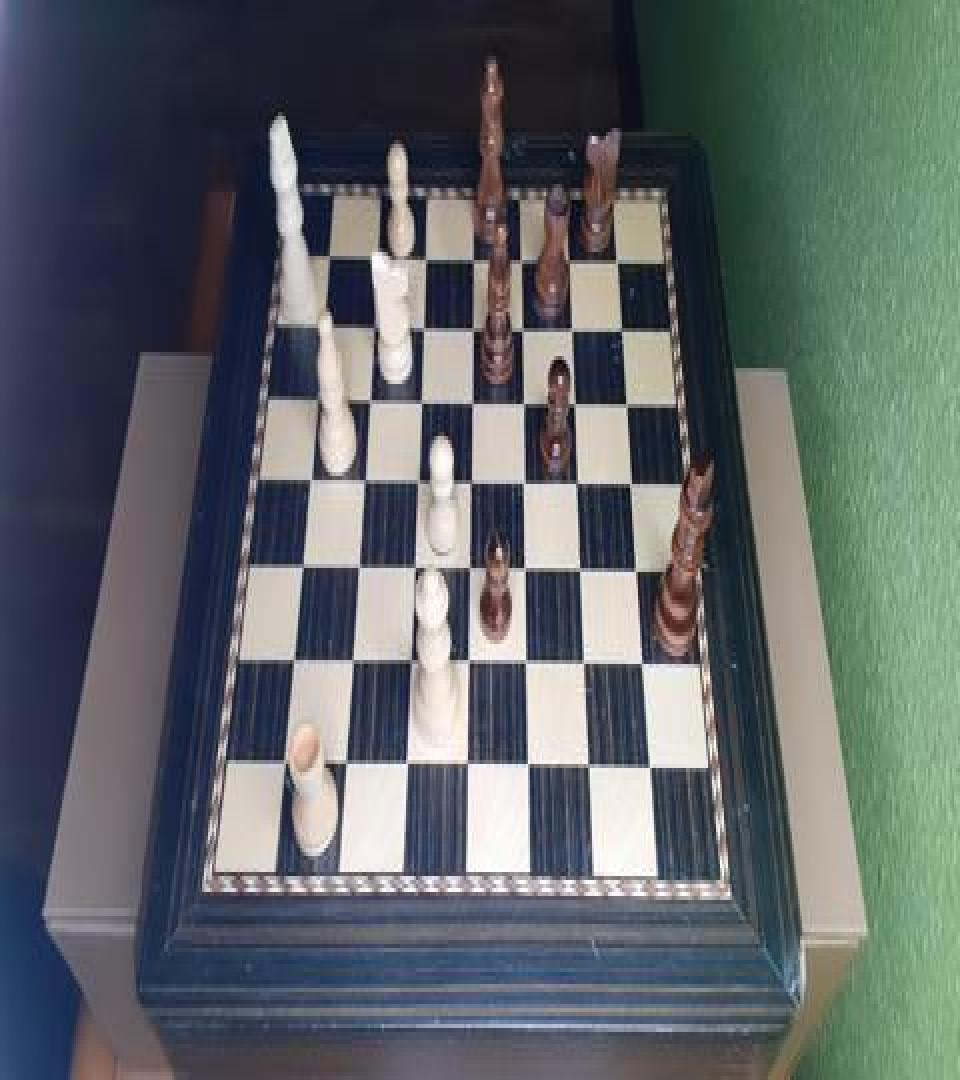xcorner: (615, 248, 629, 276), (567, 248, 581, 276), (518, 246, 532, 274), (469, 244, 483, 272), (420, 244, 434, 272), (371, 242, 385, 270), (322, 240, 336, 268), (620, 318, 634, 346), (569, 316, 583, 344), (519, 316, 533, 344), (468, 314, 482, 342), (418, 314, 432, 342), (367, 312, 381, 340), (316, 310, 330, 338), (624, 394, 638, 422), (572, 392, 586, 420), (519, 390, 533, 418), (467, 390, 481, 418), (414, 388, 428, 416), (362, 388, 376, 416), (309, 386, 323, 414), (629, 474, 643, 502), (575, 472, 589, 500), (520, 472, 534, 500), (466, 470, 480, 498), (411, 470, 425, 498), (356, 468, 370, 496), (301, 468, 315, 496), (634, 562, 648, 590), (578, 560, 592, 588), (521, 560, 535, 588), (464, 558, 478, 586), (407, 558, 421, 586), (350, 556, 364, 584), (293, 556, 307, 584), (640, 656, 654, 684), (581, 656, 595, 684), (522, 654, 536, 682), (463, 654, 477, 682), (403, 652, 417, 680), (344, 652, 358, 680), (284, 650, 298, 678), (646, 760, 660, 788), (585, 760, 599, 788), (523, 758, 537, 786), (461, 758, 475, 786), (399, 756, 413, 784), (337, 756, 351, 784), (275, 754, 289, 782)
